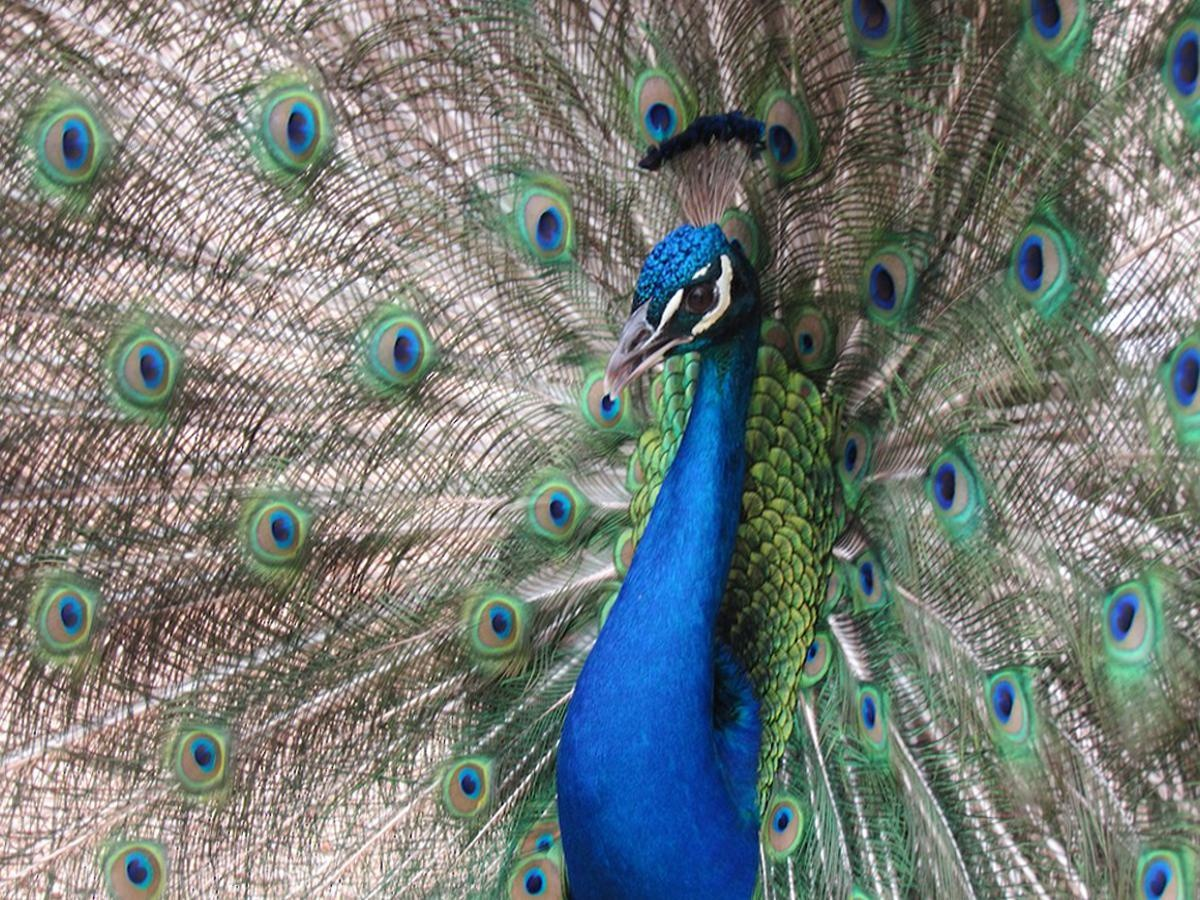peacock: (255, 117, 1200, 900)
